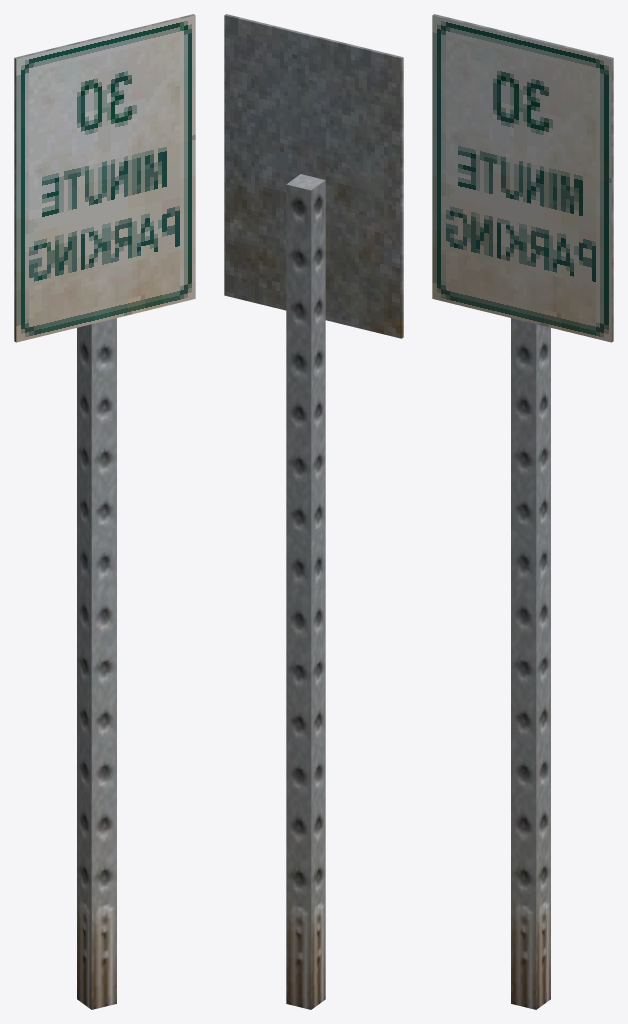
Rendered from timedparking2.fbx.
The picture shows the model from 3 angles, left to right: view 1: azimuth 30°, elevation 25°; view 2: azimuth 150°, elevation 25°; view 3: azimuth 330°, elevation 25°; orthographic projection.
Parts seen in each view (by area): view 1: mesh_0, mesh_2, mesh_1; view 2: mesh_1, mesh_2; view 3: mesh_0, mesh_2, mesh_1.
Boxes of the visible parts, x1,y1,x2,y2 form: mesh_0: [16, 15, 195, 342]; mesh_2: [77, 318, 116, 1009]; mesh_1: [14, 14, 194, 342]; mesh_1: [224, 14, 403, 338]; mesh_2: [286, 174, 325, 1009]; mesh_0: [432, 15, 611, 342]; mesh_2: [511, 318, 550, 1009]; mesh_1: [433, 14, 613, 342].
Bounding box in the file's own units: 31.69 × 164 × 4.98.
3 materials, 3 textured.
